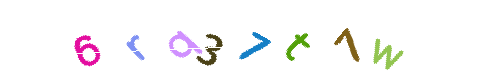3: (200, 0, 280, 80)
6: (46, 0, 126, 80)
7: (216, 0, 296, 80), (256, 0, 336, 80)
Q: (133, 0, 213, 80)
R: (117, 0, 197, 80)
T: (237, 0, 317, 80)
W: (320, 0, 400, 80)
